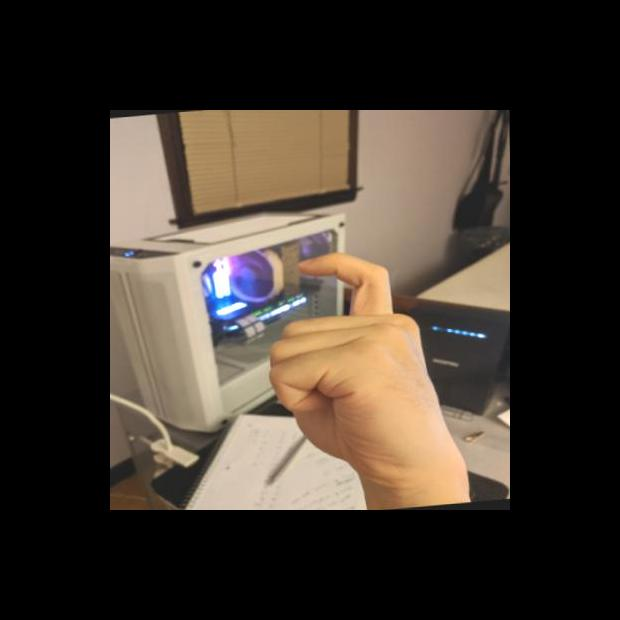W: (256, 240, 476, 492)
